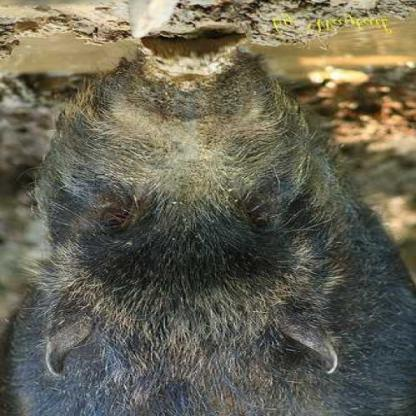boar: (7, 53, 415, 409)
